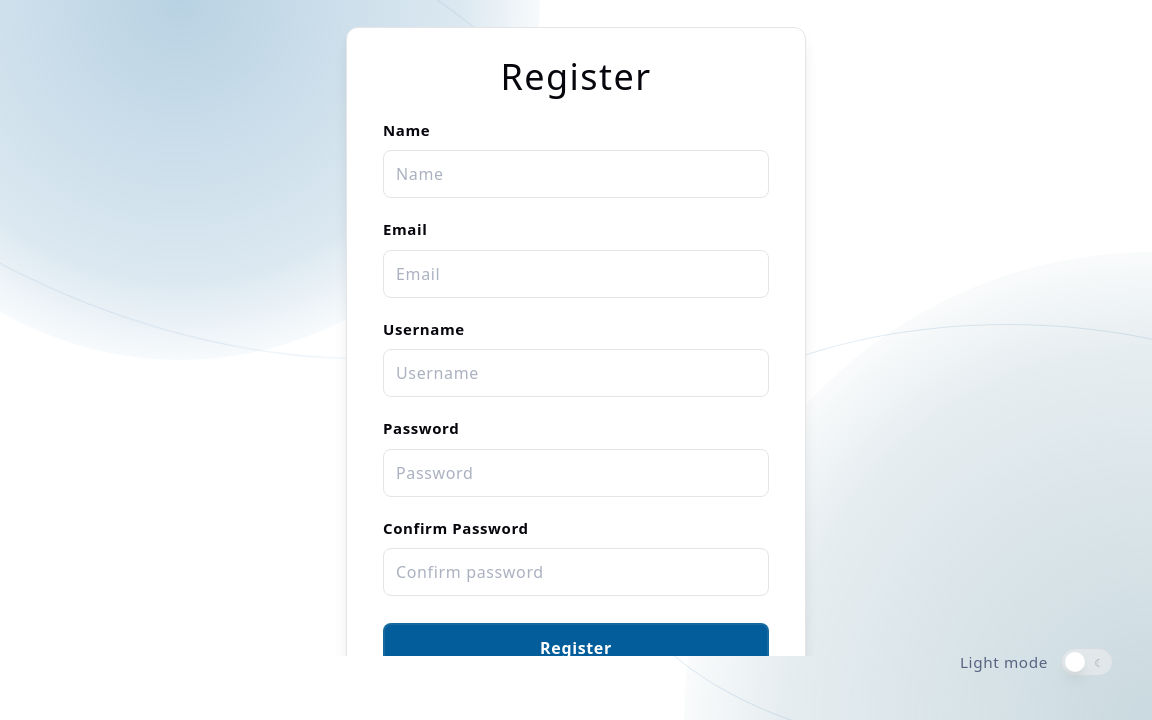
Register › completes registration with a valid verification code
Type "Test User" into the field with placeholder "Name".
click(576, 174); type("Test User")  # box [383,150,769,198]
Type "test@example.com" into the field with placeholder "Email".
click(576, 274); type("test@example.com")  # box [383,250,769,298]
Type "testuser" into the field with placeholder "Username".
click(576, 373); type("testuser")  # box [383,349,769,397]
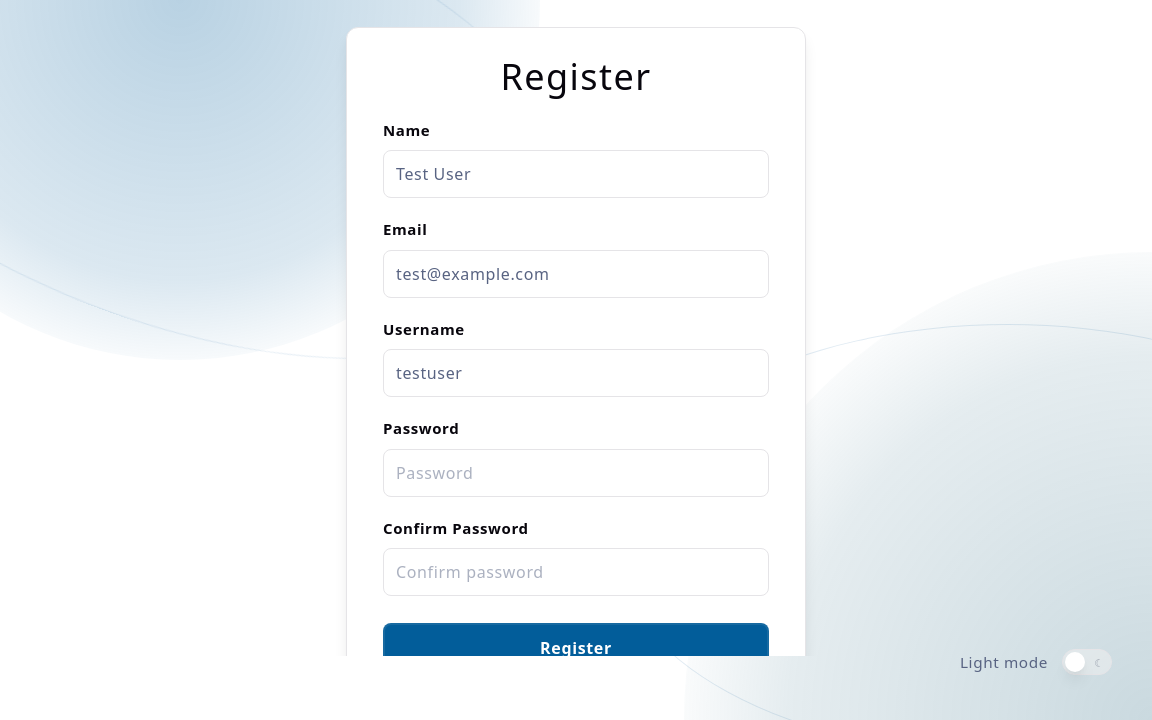
Type "password123" into the password field with placeholder "Password".
click(576, 473); type("password123")  # box [383,448,769,497]
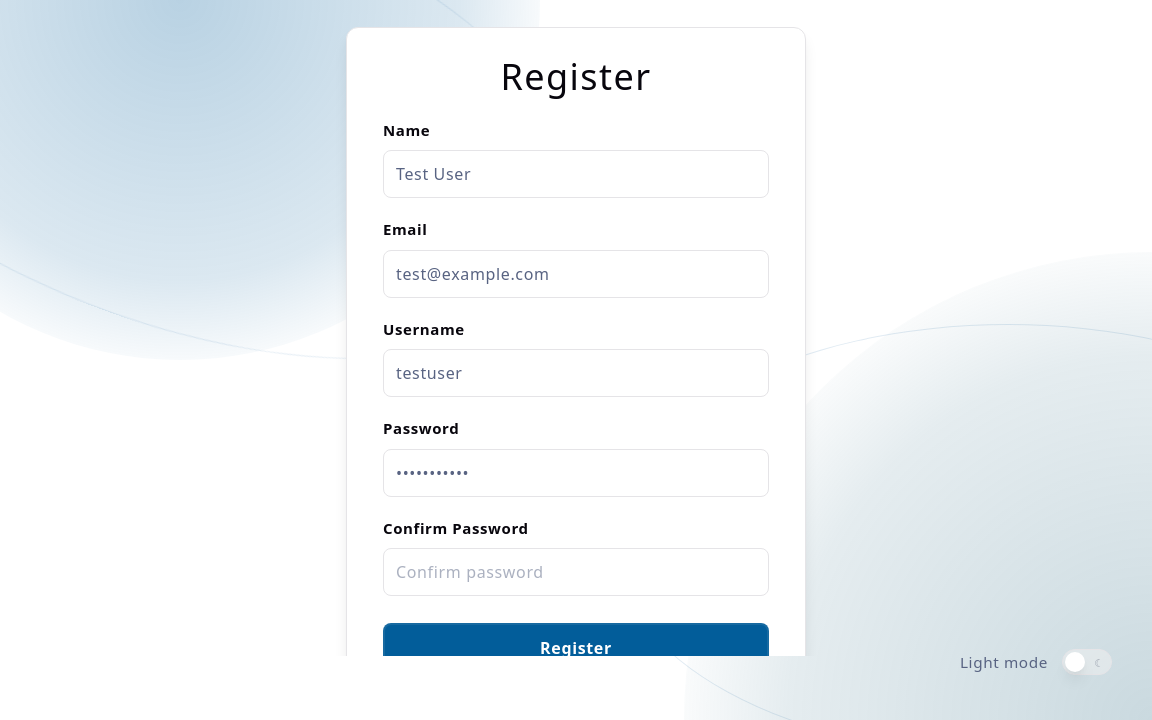
Type "password123" into the password field with placeholder "Confirm Password".
click(576, 572); type("password123")  # box [383,548,769,596]
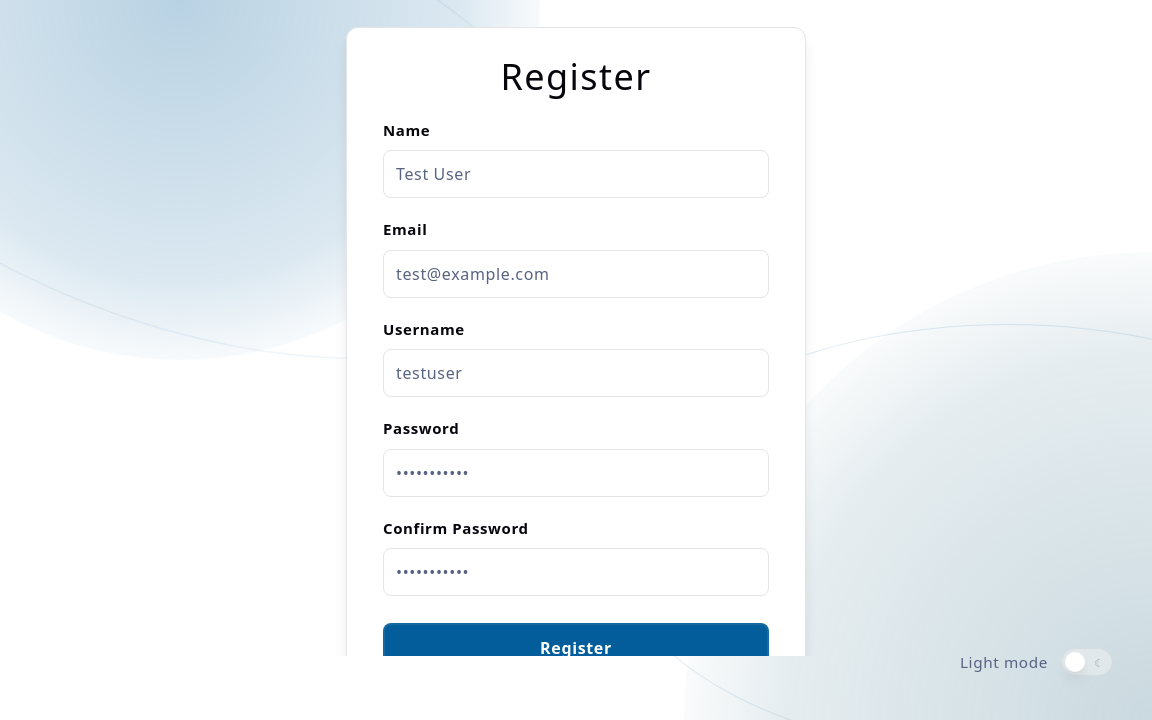
Click the button "Register".
click(576, 648)  # box [383,623,769,673]
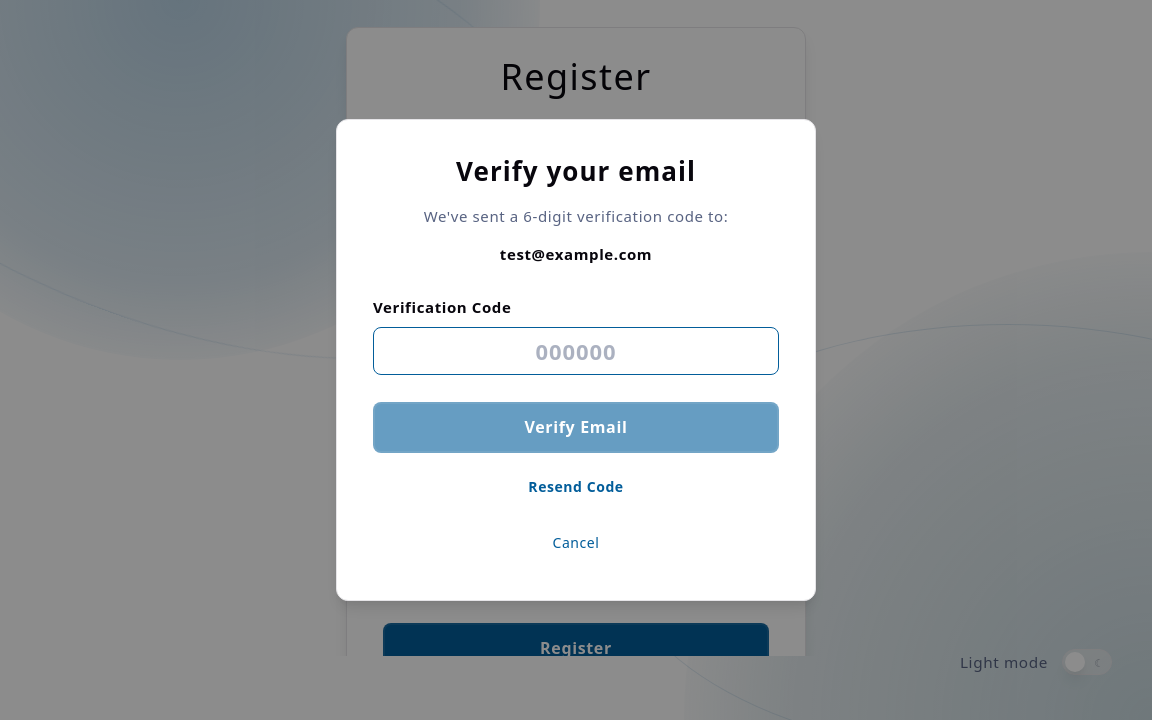
Expected: the field with placeholder "000000" is shown
Type "123456" into the field with placeholder "000000".
click(576, 351); type("123456")  # box [373,327,779,375]
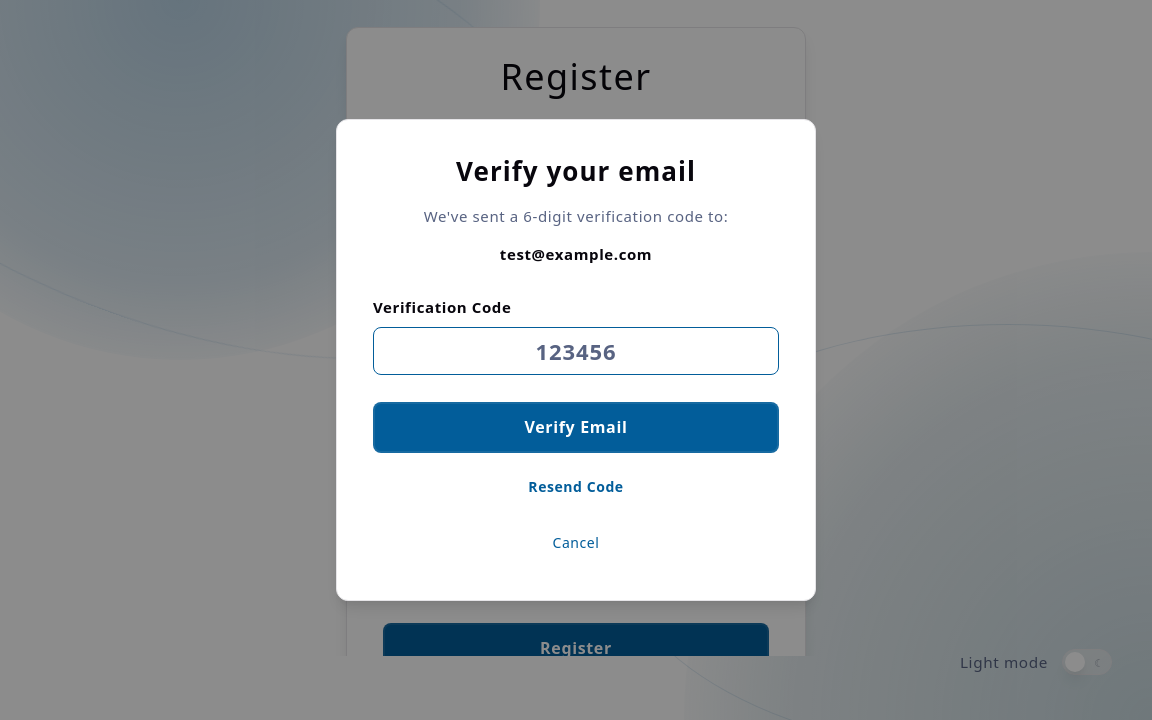
Click the button "Verify Email".
click(576, 427)  # box [373,402,779,452]
(page scrolled)
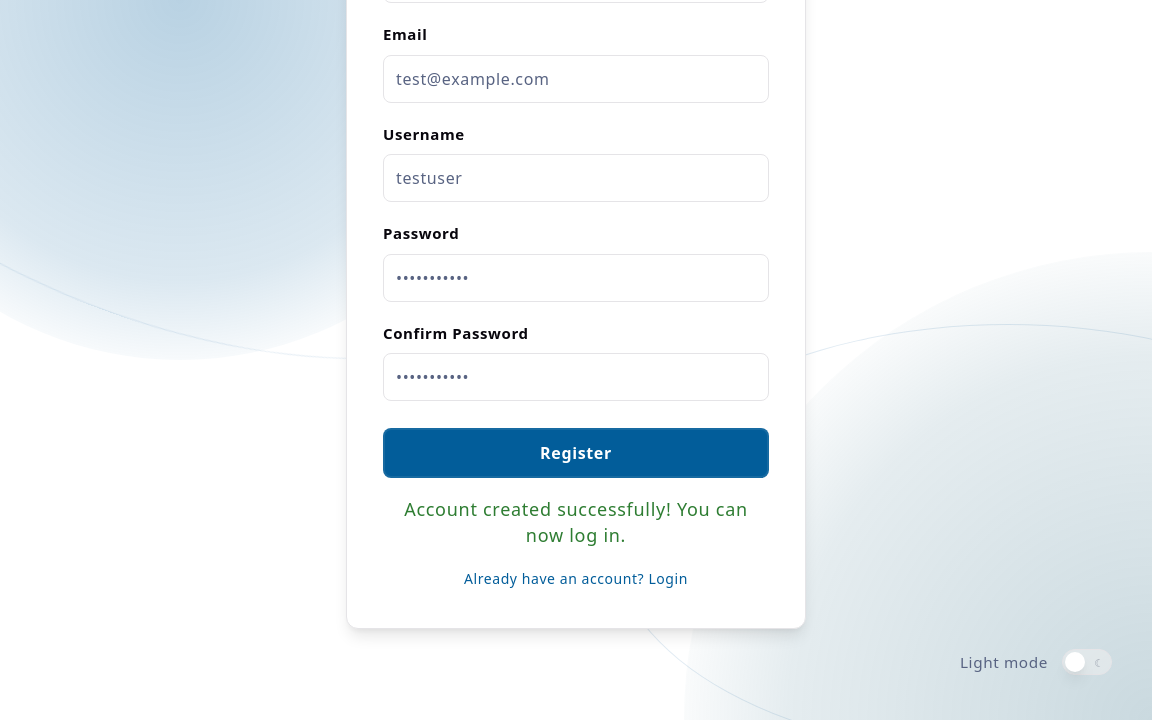
Expected: the text "Account created successfully! You can now log in." is shown, [383,496,769,548]
